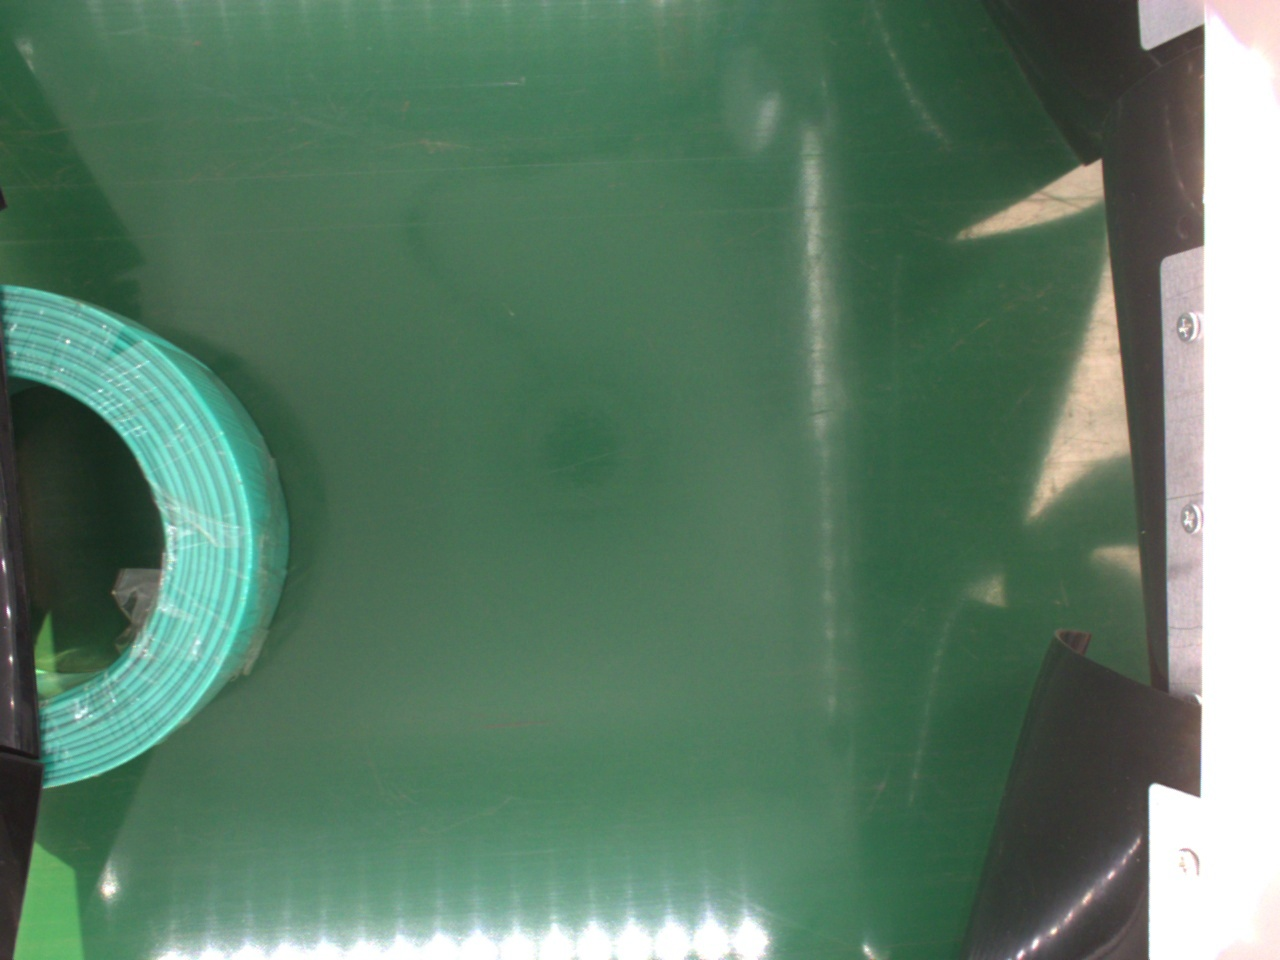green: (4, 283, 284, 794)
